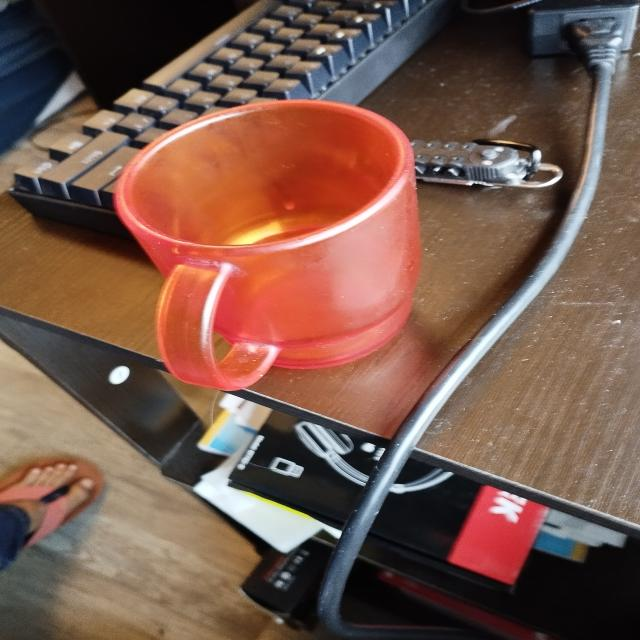Cup: (86, 106, 455, 392)
